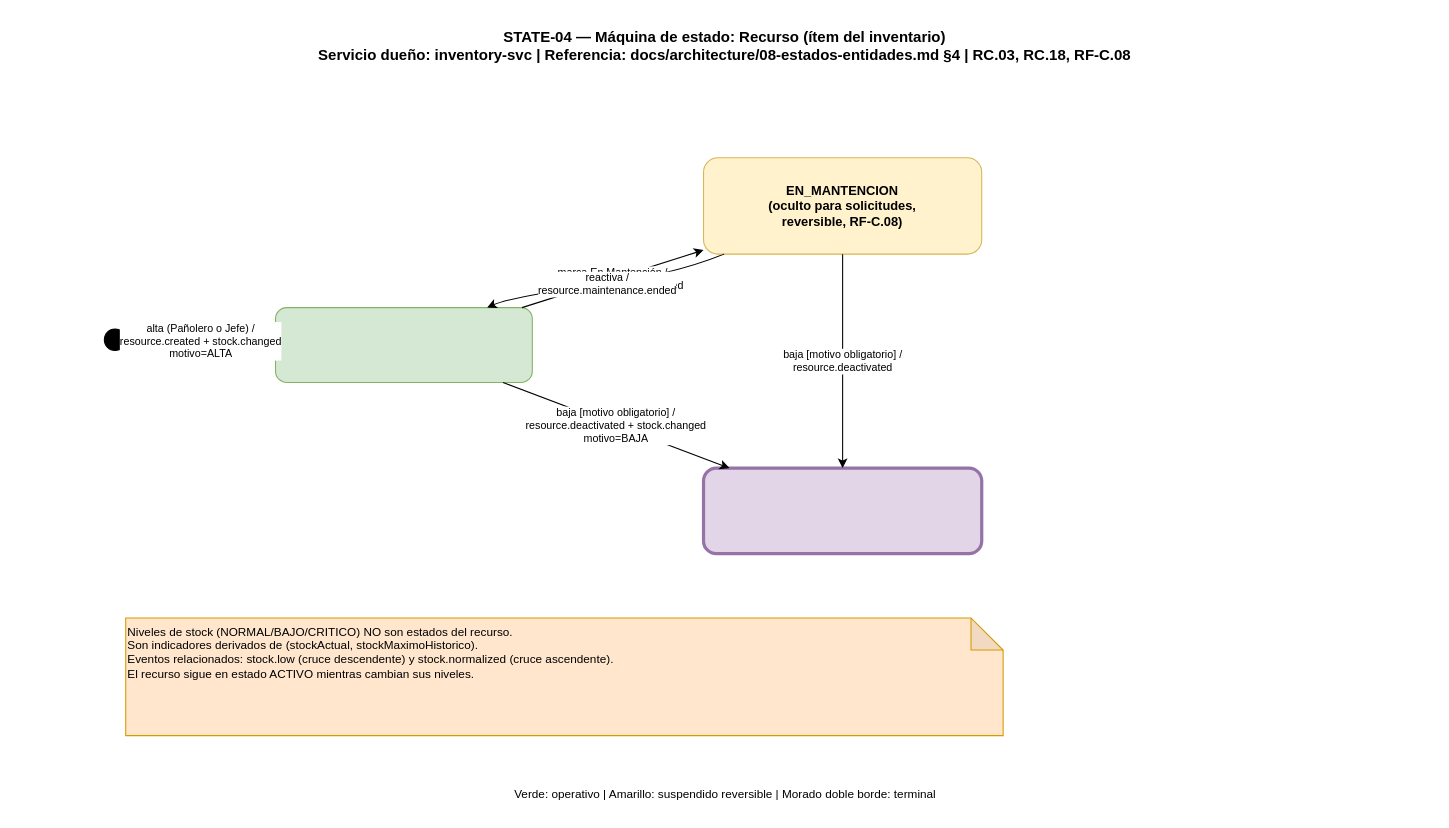
This 1449x828 diagram has some shape labels left out. Here are the shapes that lost their labels. From the top down, the centre of each, then its label:
At (x=403, y=345): "ACTIVO (disponible si hay stock)".
At (x=842, y=510): "BAJA (terminal, registro conservado)".
